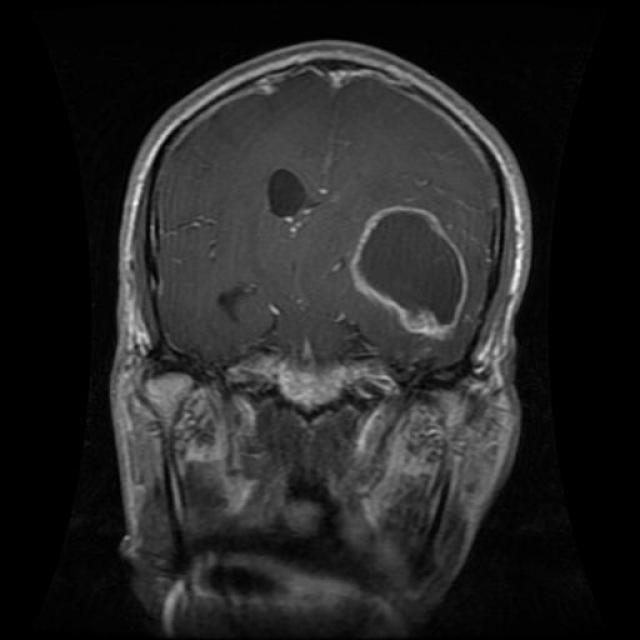Brain-Tumor: (341, 191, 485, 355), (255, 152, 321, 226)
